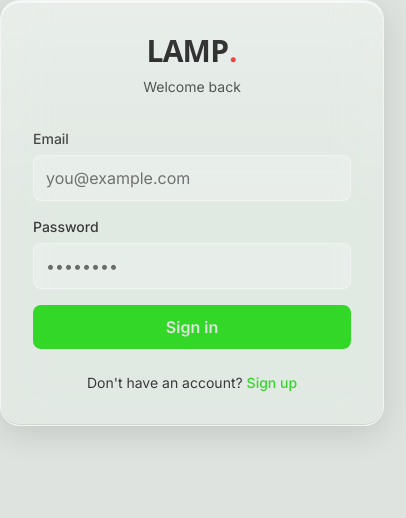
Test: AuthForm › Login mode › shows error on failed login
This screenshot has width=406, height=518.
Type "test@test.com" into the field labelled "Email" at (192, 178), box x1=33 y1=155 x2=351 y2=201
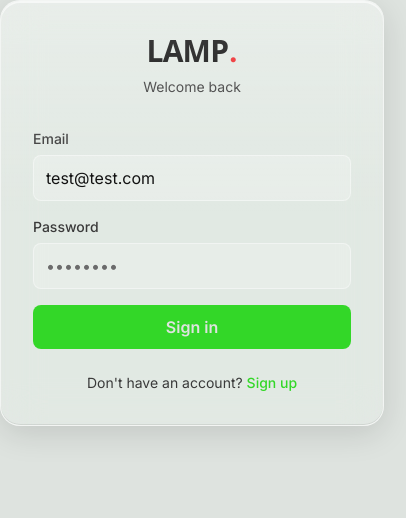
Type "wrong" into the password field labelled "Password" at (192, 266), box x1=33 y1=243 x2=351 y2=289
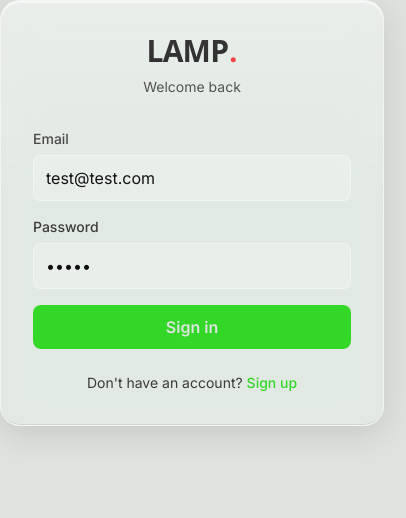
Click the button "Sign in" at (192, 327), box x1=33 y1=305 x2=351 y2=349
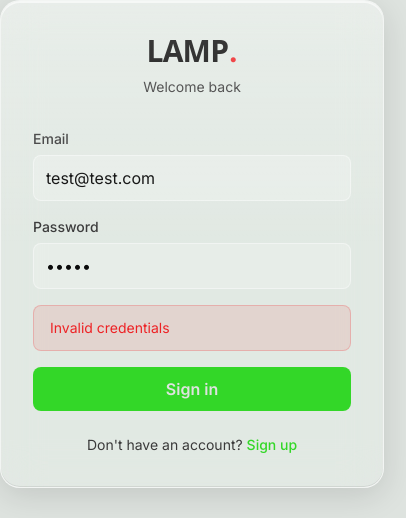
Now the text "Invalid credentials" is shown, box x1=50 y1=319 x2=170 y2=336
